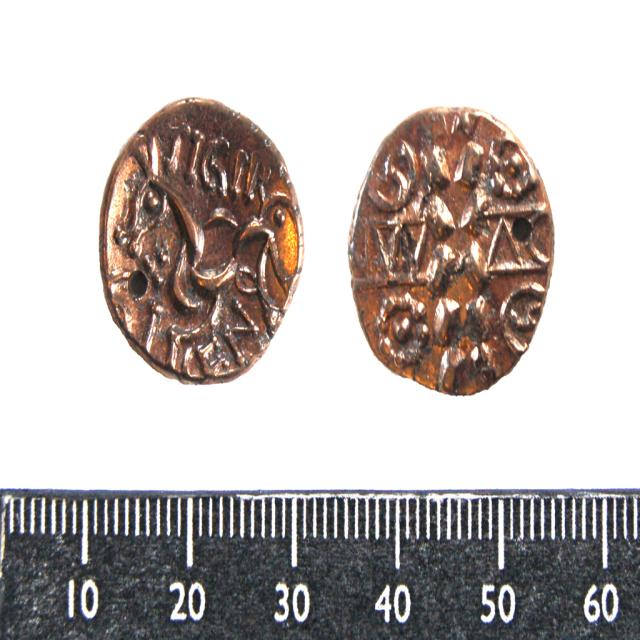Coin: (348, 105, 558, 396), (100, 92, 305, 385)
